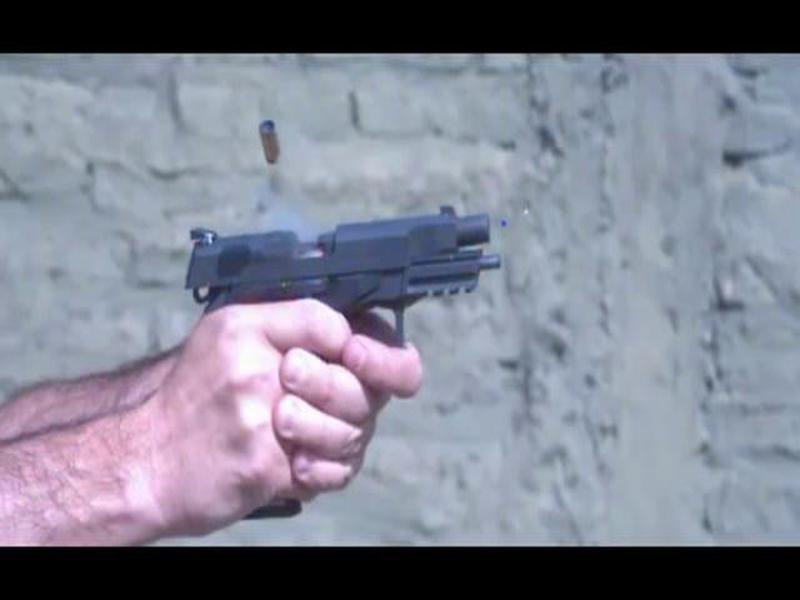Pistola: (151, 149, 527, 371)
